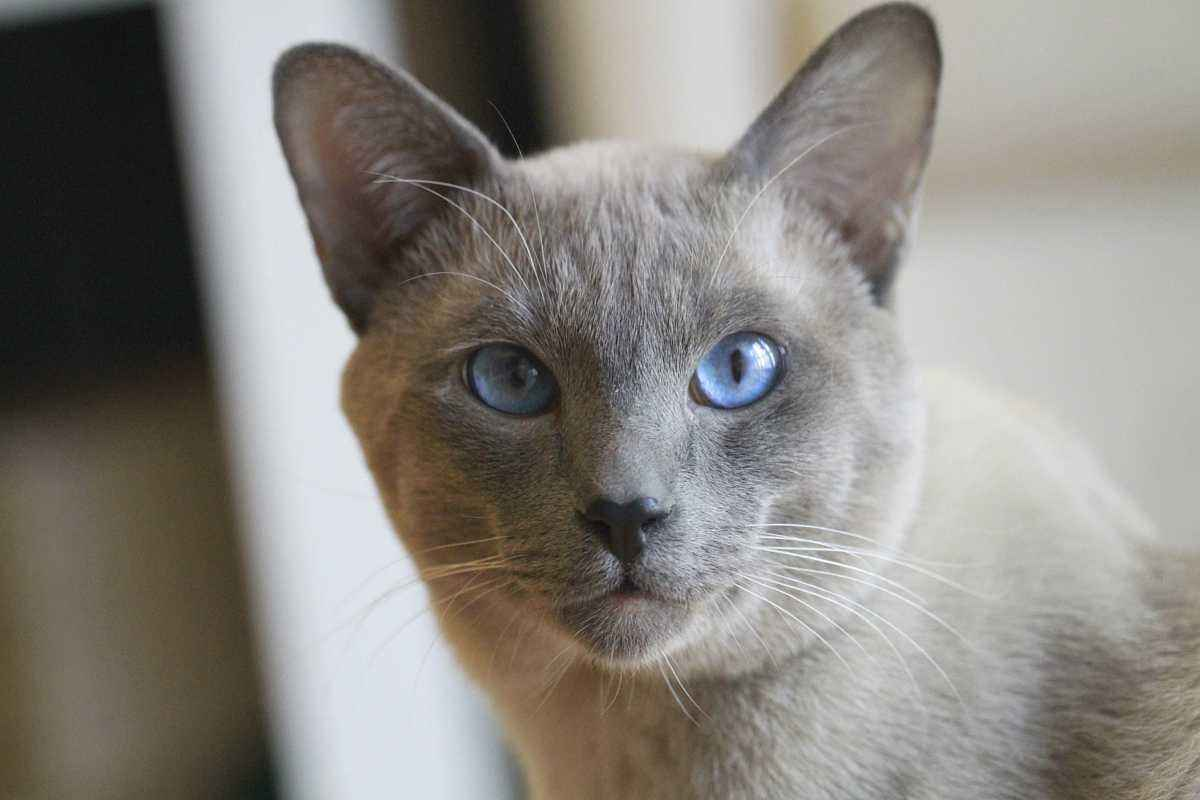cat: (270, 1, 955, 675)
